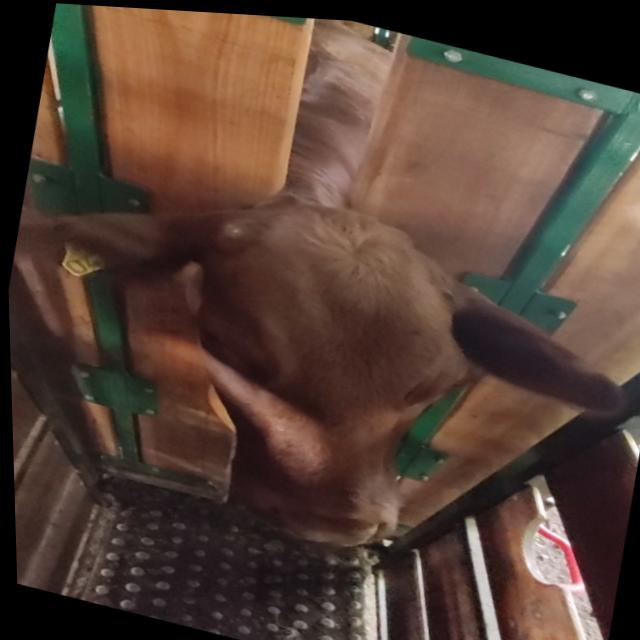cowFace: (151, 177, 501, 570)
